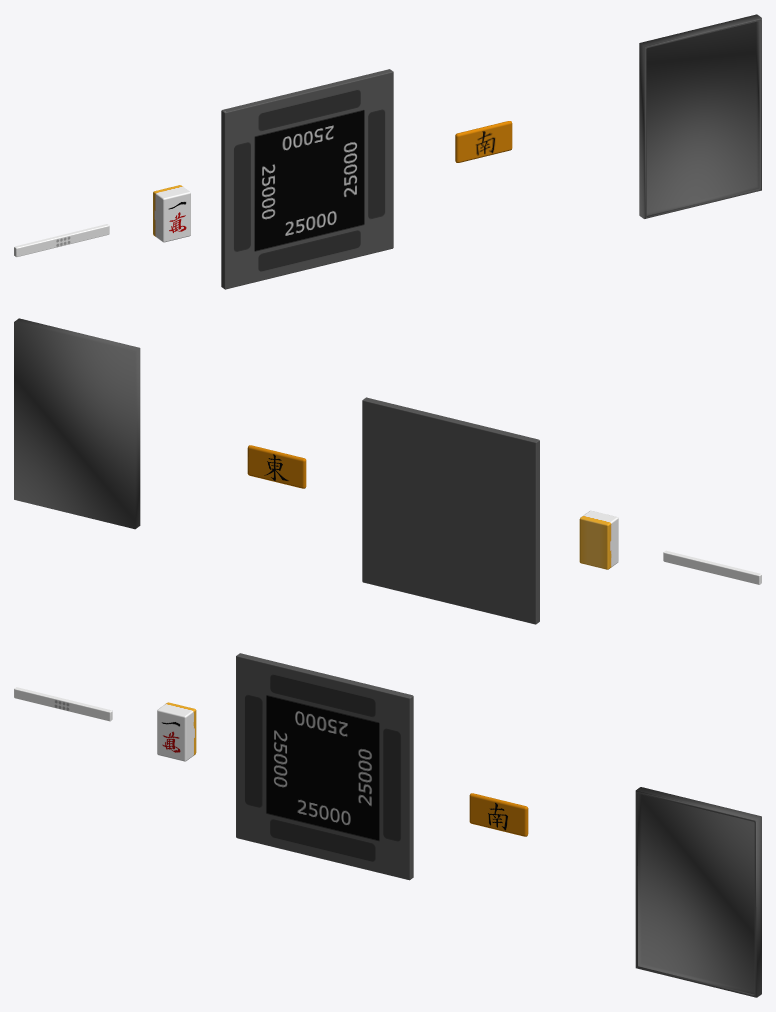
Rendered from models.auto.glb.
3 views of the same model, one above another, from view 1: azimuth 30°, elevation 25°; view 2: azimuth 150°, elevation 25°; view 3: azimuth 330°, elevation 25° (orthographic). The views are drawn at different scales.
Parts seen in each view (by area): view 1: center, tray, tile, marker, stick; view 2: center, tray, tile, marker, stick; view 3: center, tray, tile, marker, stick.
Part boxes in pixels (box(x1,y1,x2,y2)): center: box(221, 69, 393, 289); tray: box(639, 14, 761, 218); tile: box(153, 185, 190, 242); marker: box(455, 121, 512, 162); stick: box(14, 224, 109, 257); center: box(362, 397, 539, 624); tray: box(14, 318, 140, 529); tile: box(579, 510, 618, 569); marker: box(247, 445, 306, 488); stick: box(663, 550, 761, 584); center: box(236, 653, 413, 880); tray: box(635, 787, 761, 997); tile: box(157, 702, 196, 761); marker: box(469, 793, 528, 836); stick: box(14, 687, 112, 721).
Size of the model in its own units: 156 by 39.28 by 7.39.
Materials: 5 (4 with a texture image).
